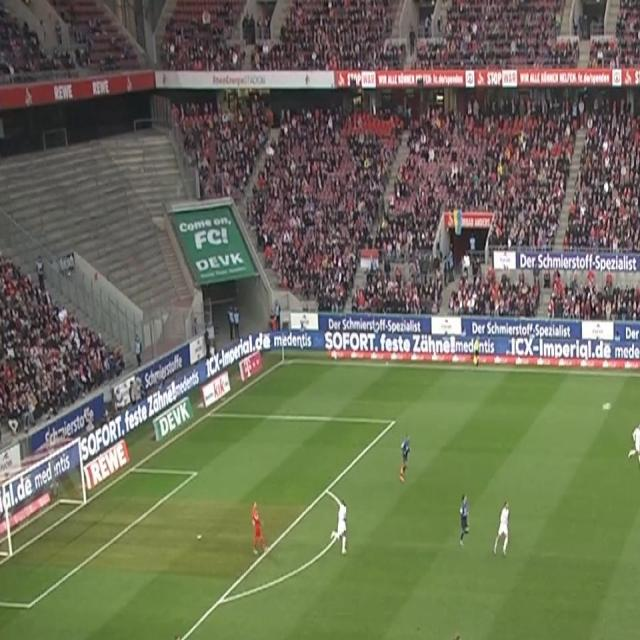ball: (602, 400, 612, 414)
